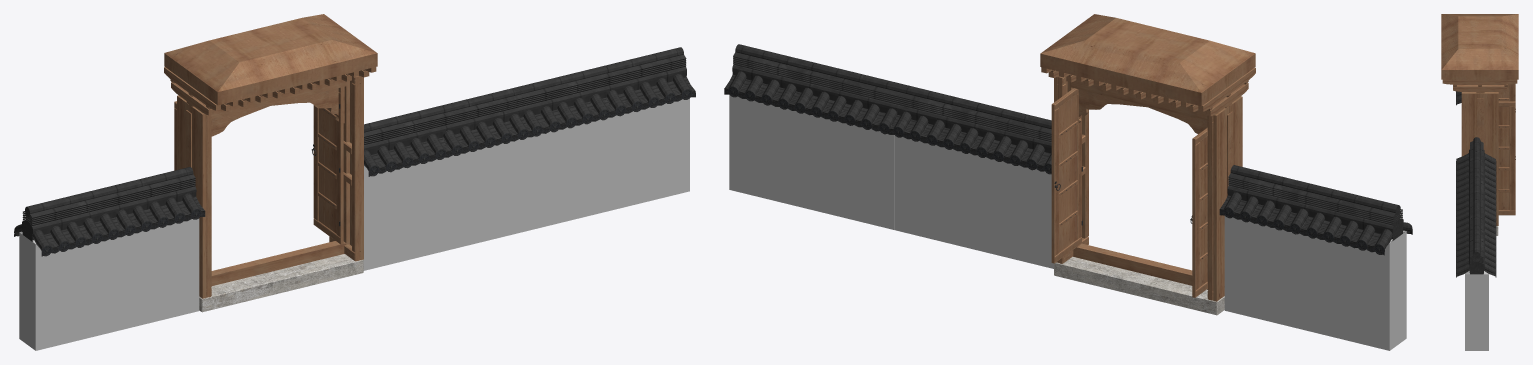
File: SM_HBJ_HG_StoneWallH_Splines_19.fbx
3 renders of one model, left to right at view 1: azimuth 30°, elevation 25°; view 2: azimuth 150°, elevation 25°; view 3: azimuth 270°, elevation 25°, orthographic. The views are drawn at different scales.
Visible parts, largest first — view 1: SM_HBJ_HG_StoneWallH_Splines_19; view 2: SM_HBJ_HG_StoneWallH_Splines_19; view 3: SM_HBJ_HG_StoneWallH_Splines_19.
Part boxes in pixels (x1,y1,x2,y2): SM_HBJ_HG_StoneWallH_Splines_19: (14, 14, 695, 350); SM_HBJ_HG_StoneWallH_Splines_19: (724, 14, 1412, 350); SM_HBJ_HG_StoneWallH_Splines_19: (1441, 14, 1518, 350).
Bounding box in the file's own units: 885 × 126 × 315.
